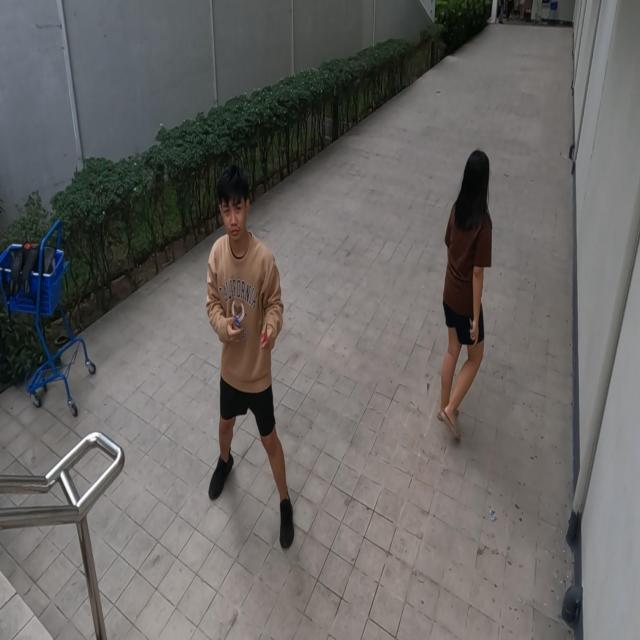scissor: (260, 322, 269, 349)
